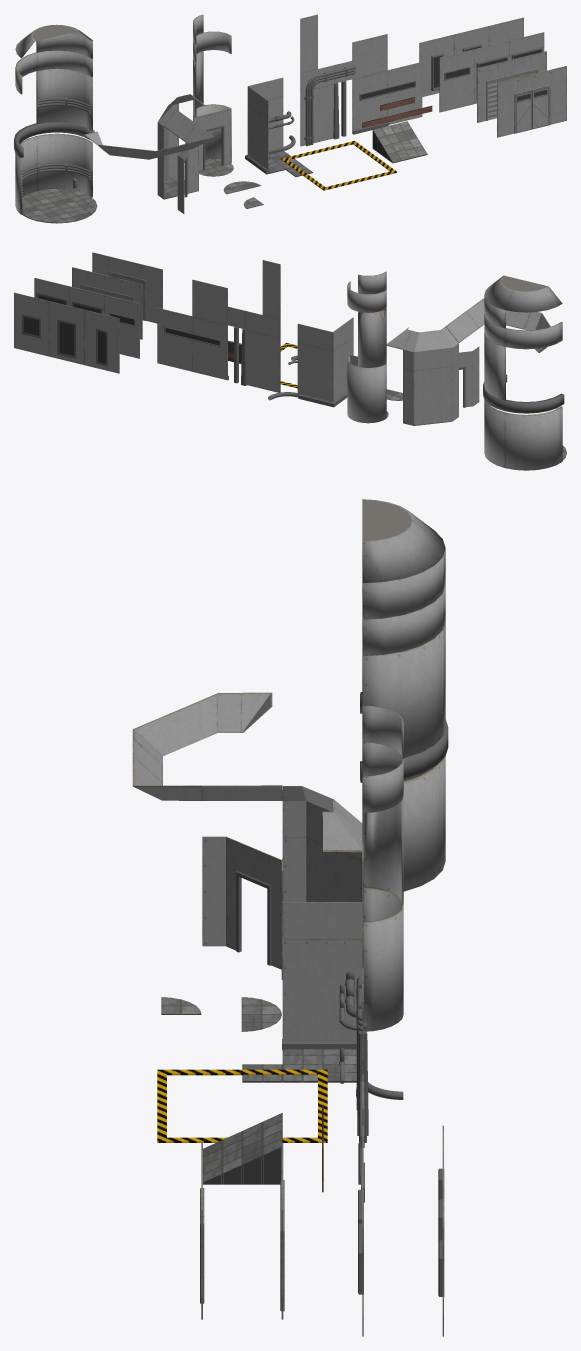
Rendered from LabModular.fbx.
The picture shows the model from 3 angles, top to bottom: view 1: azimuth 30°, elevation 25°; view 2: azimuth 150°, elevation 25°; view 3: azimuth 270°, elevation 25°; orthographic projection. The views are drawn at different scales.
Visible parts, largest first — view 1: Curved.003, FlatWall.004, Curved.004, FlatWall.006, Floor.007, FlatWall.005, Corners, FlatWall.010, Floor.001, Curved.006, FlatWall, FlatWall.009 (+34 smaller); view 2: Curved.003, FlatWall.004, Corners.003, Corners, Curved.011, CeilingBits.007, FlatWall.009, FlatWall.008, FlatWall.006, FlatWall.007, FlatWall, Curved (+24 smaller); view 3: Corners, Corners.004, Curved.004, Curved.011, CeilingBits.007, Curved.003, Corners.003, Floor.001, CeilingBits.003, Curved, Curved.006, Curved.007 (+11 smaller).
Part boxes in pixels (x1=…): Curved.003: x1=15, y1=133, x2=92, y2=214; FlatWall.004: x1=352, y1=62, x2=422, y2=129; Curved.004: x1=36, y1=68, x2=92, y2=130; FlatWall.006: x1=497, y1=66, x2=566, y2=137; Floor.007: x1=22, y1=189, x2=97, y2=223; FlatWall.005: x1=439, y1=49, x2=474, y2=112; Corners: x1=247, y1=96, x2=283, y2=169; FlatWall.010: x1=477, y1=51, x2=546, y2=122; Floor.001: x1=372, y1=121, x2=427, y2=163; Curved.006: x1=15, y1=50, x2=92, y2=94; FlatWall: x1=300, y1=84, x2=334, y2=146; FlatWall.009: x1=419, y1=34, x2=454, y2=96; Curved.003: x1=484, y1=400, x2=562, y2=470; FlatWall.004: x1=157, y1=308, x2=227, y2=380; Corners.003: x1=403, y1=362, x2=458, y2=425; Corners: x1=297, y1=336, x2=353, y2=401; Curved.011: x1=347, y1=355, x2=386, y2=422; CeilingBits.007: x1=484, y1=275, x2=562, y2=312; FlatWall.009: x1=84, y1=310, x2=119, y2=373; FlatWall.008: x1=49, y1=301, x2=84, y2=364; FlatWall.006: x1=92, y1=252, x2=162, y2=323; FlatWall.007: x1=14, y1=292, x2=49, y2=356; FlatWall: x1=246, y1=330, x2=280, y2=392; Curved: x1=358, y1=308, x2=386, y2=367; Corners: x1=282, y1=939, x2=362, y2=1040; Corners.004: x1=202, y1=836, x2=283, y2=979; Curved.004: x1=362, y1=621, x2=445, y2=757; Curved.011: x1=363, y1=888, x2=403, y2=1031; CeilingBits.007: x1=362, y1=499, x2=445, y2=583; Curved.003: x1=403, y1=756, x2=445, y2=891; Corners.003: x1=282, y1=837, x2=362, y2=901; Floor.001: x1=203, y1=1113, x2=282, y2=1184; CeilingBits.003: x1=132, y1=693, x2=242, y2=765; Curved: x1=362, y1=799, x2=403, y2=904; Curved.006: x1=362, y1=585, x2=445, y2=655; Curved.007: x1=362, y1=549, x2=445, y2=619.
Size of the model in its own units: 3013 by 944 by 786.
Materials: 9 (8 with a texture image).
